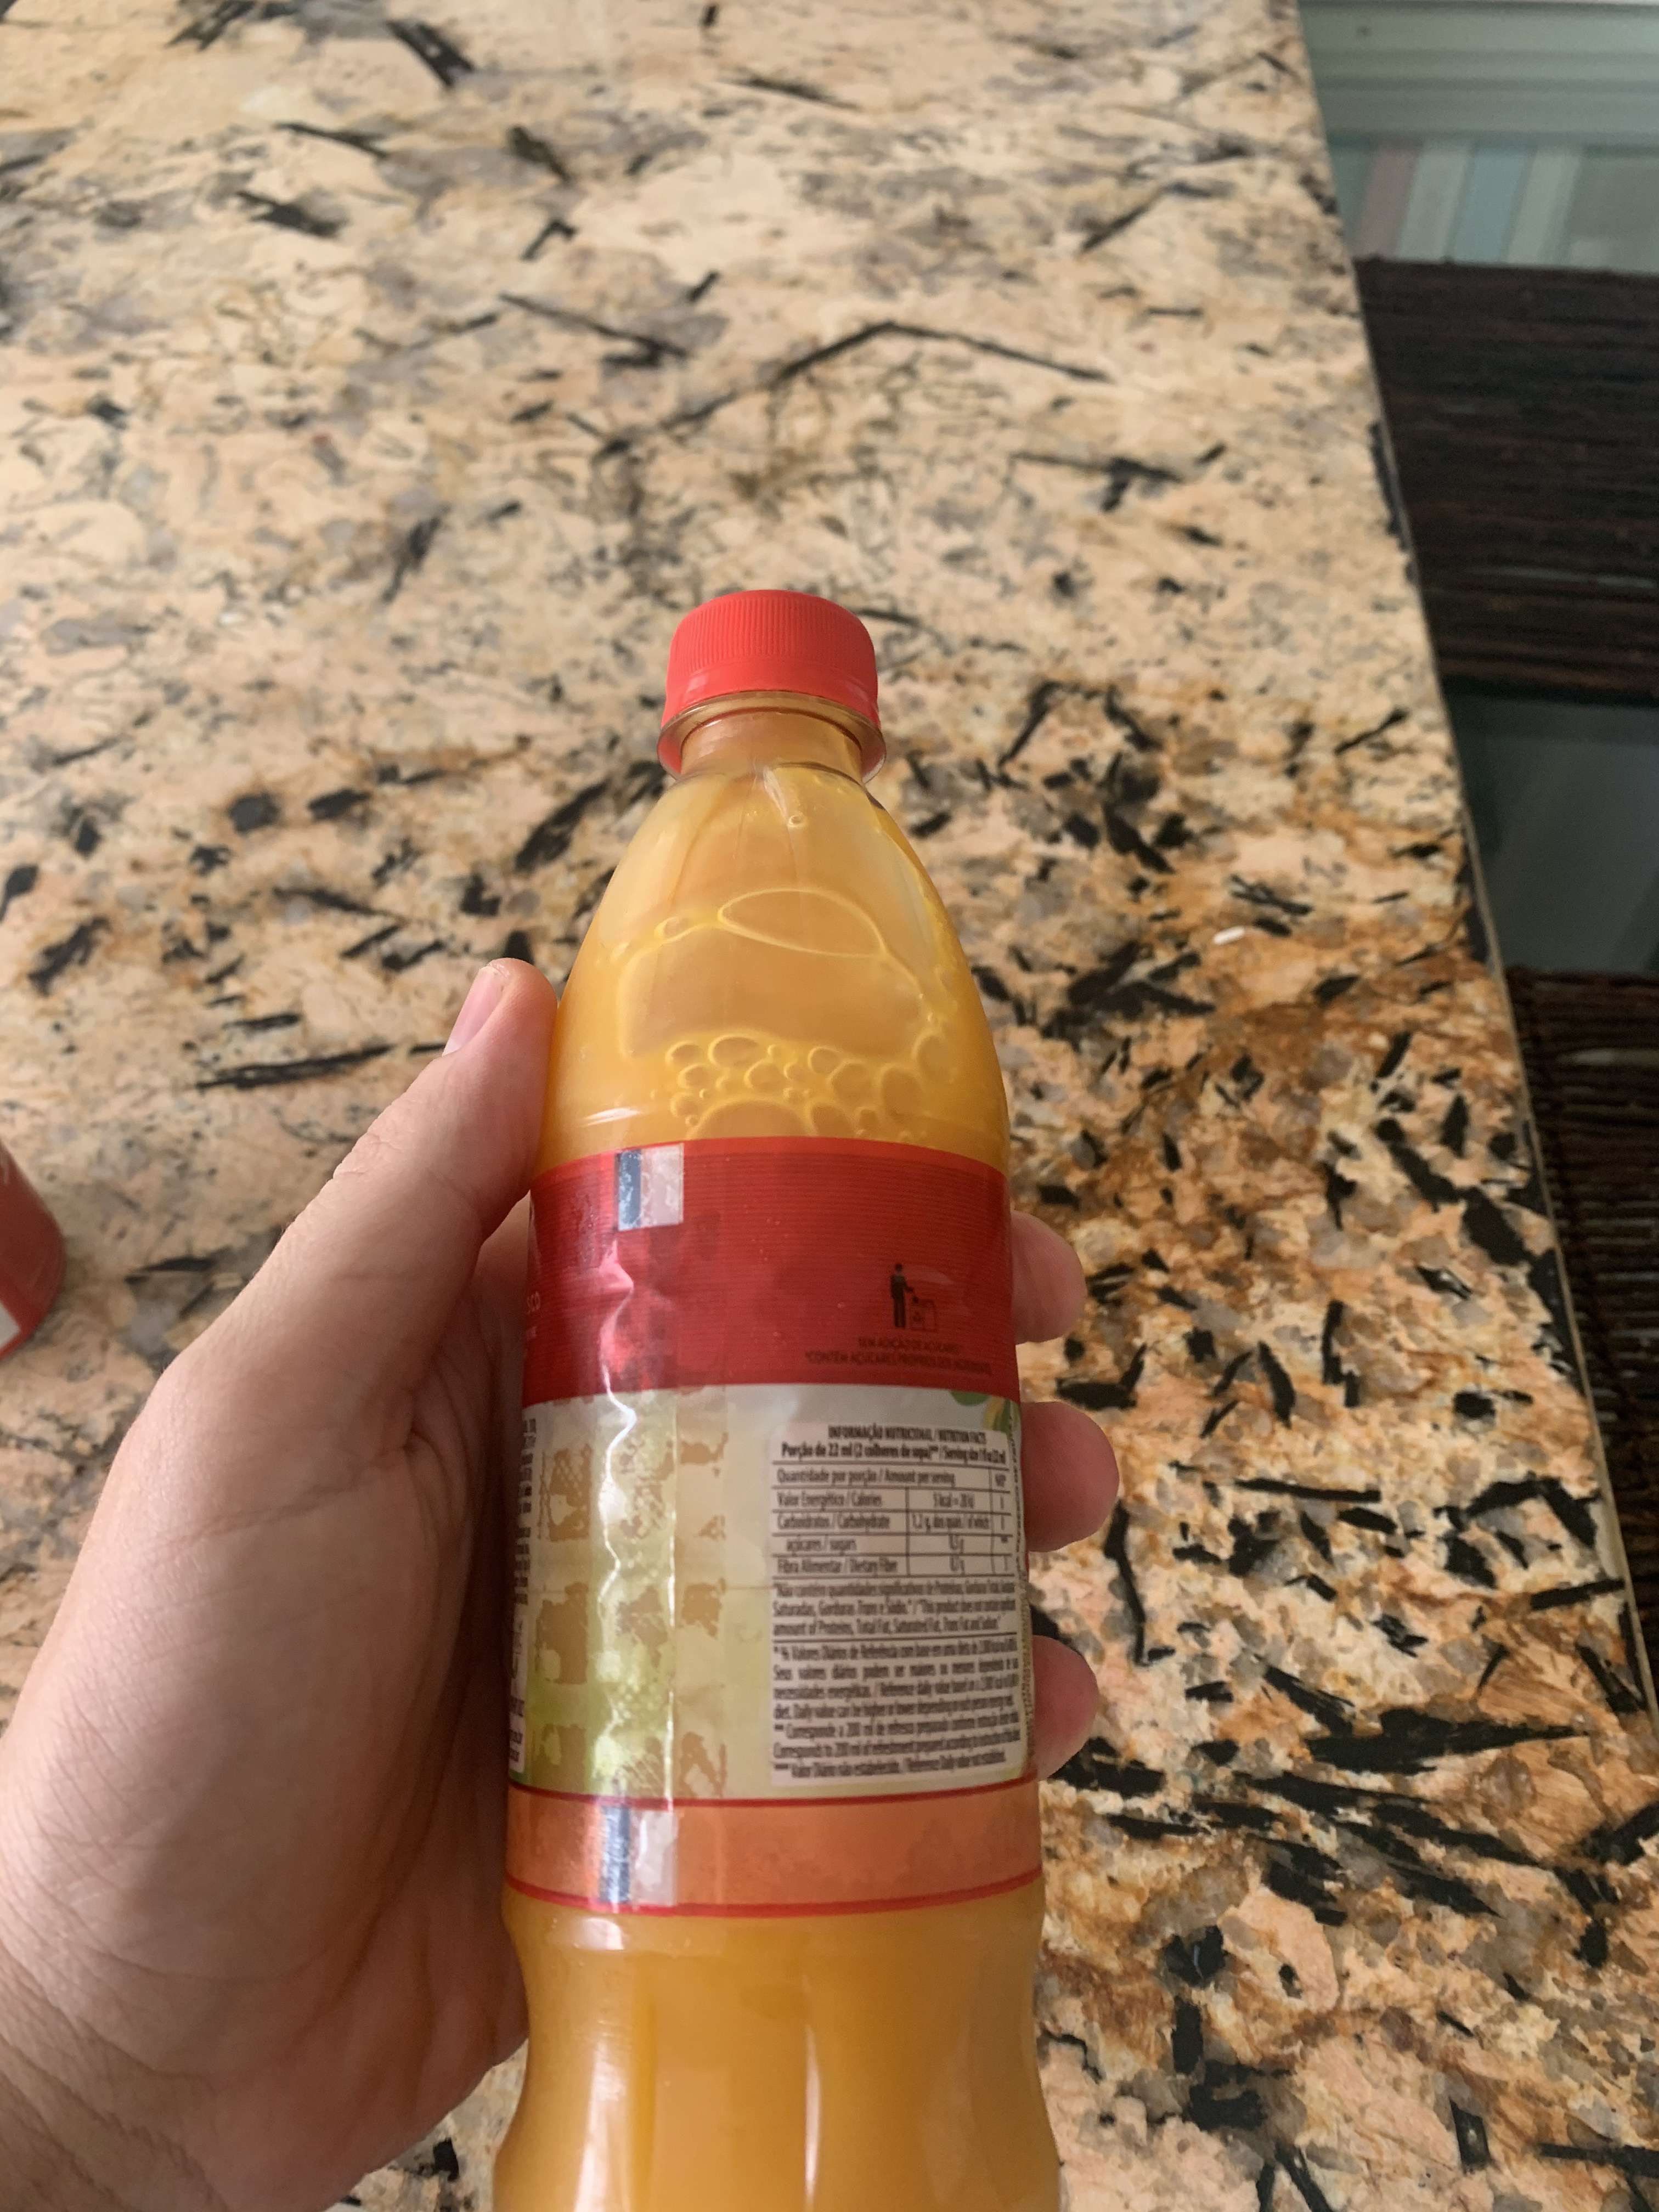maguary: (462, 604, 1134, 2212)
